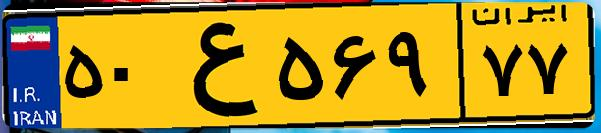0: (110, 28, 158, 98)
5: (270, 28, 330, 110), (57, 26, 110, 100)
6: (330, 28, 385, 110)
7: (475, 38, 525, 113), (525, 38, 570, 115)
9: (385, 28, 445, 110)
ع: (158, 12, 270, 120)
